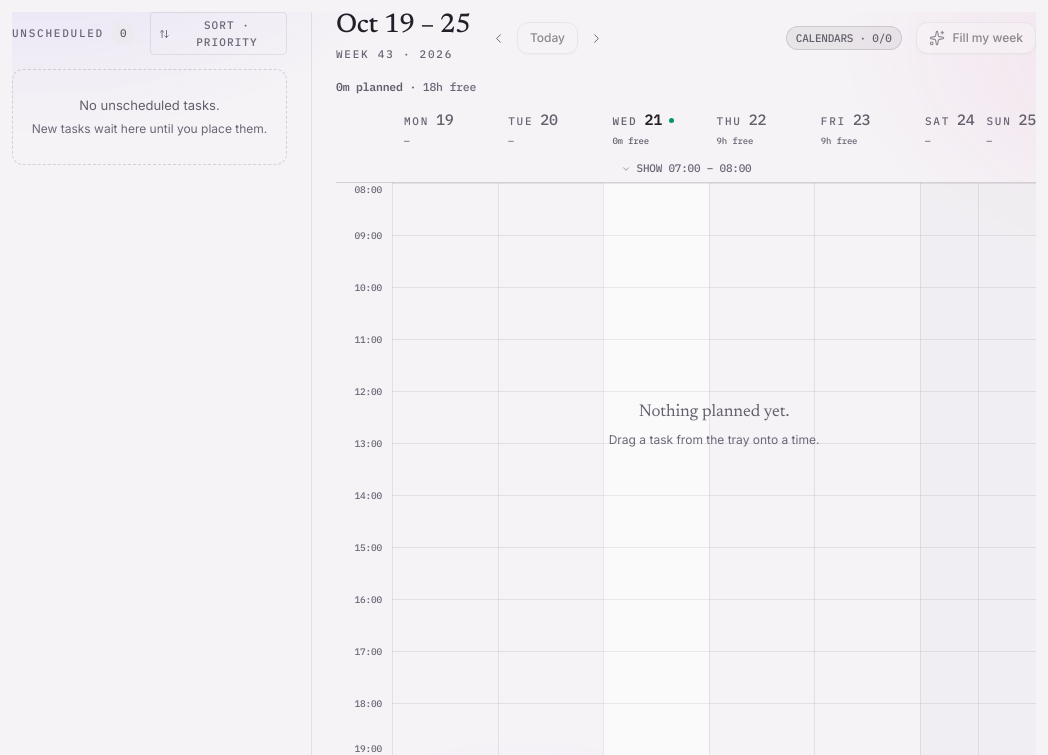
Planner — reconcile on week navigation (chunk 40, F1) › reconciles a week exactly once per refresh key across re-visits
Click the button named "Next week". click: {"x": 596, "y": 38}
box: [582,24,610,52]
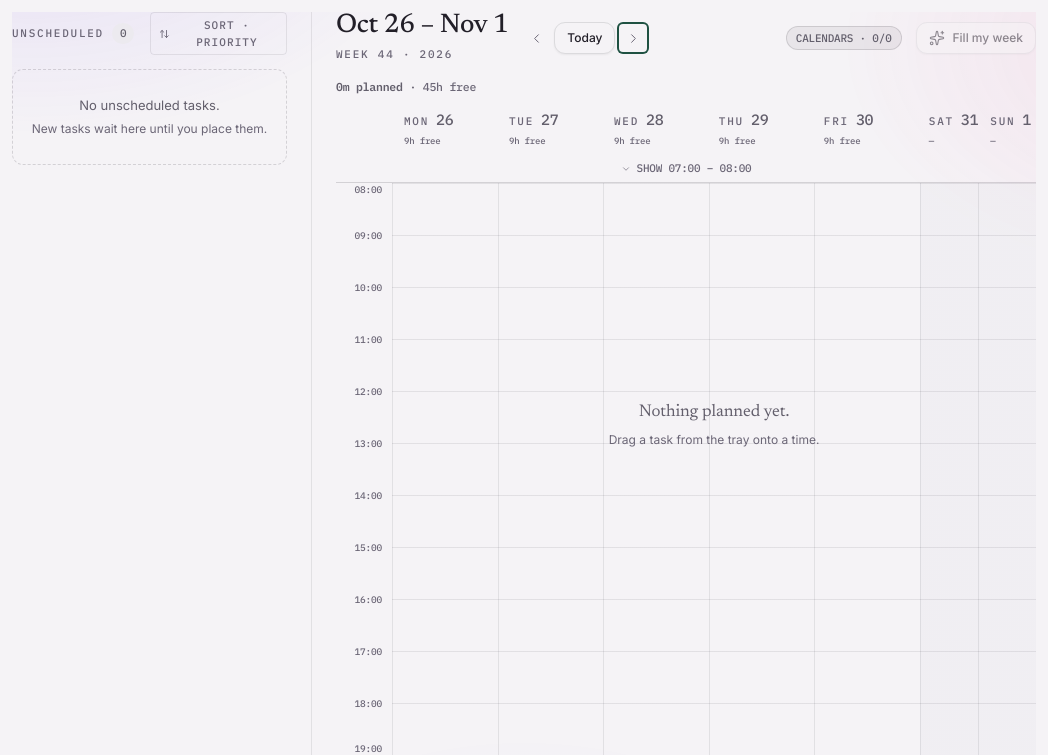
Click the button "Today". click: {"x": 585, "y": 38}
box: [554,22,615,54]
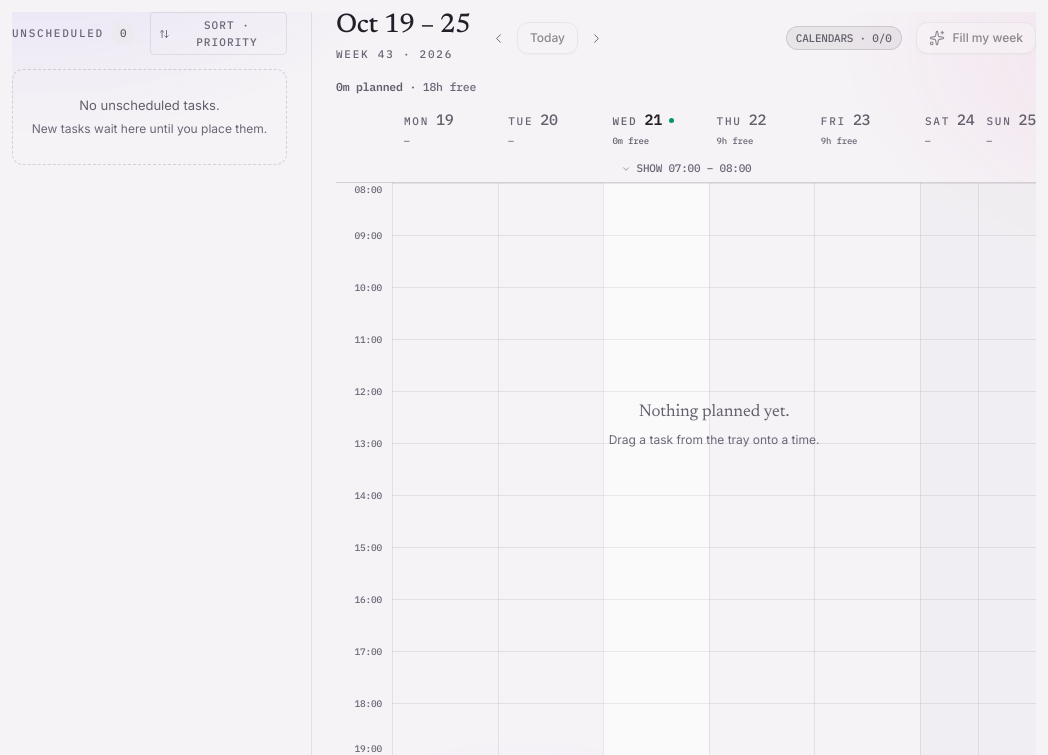
Now the button "Today" is disabled, box [517,22,578,54]
